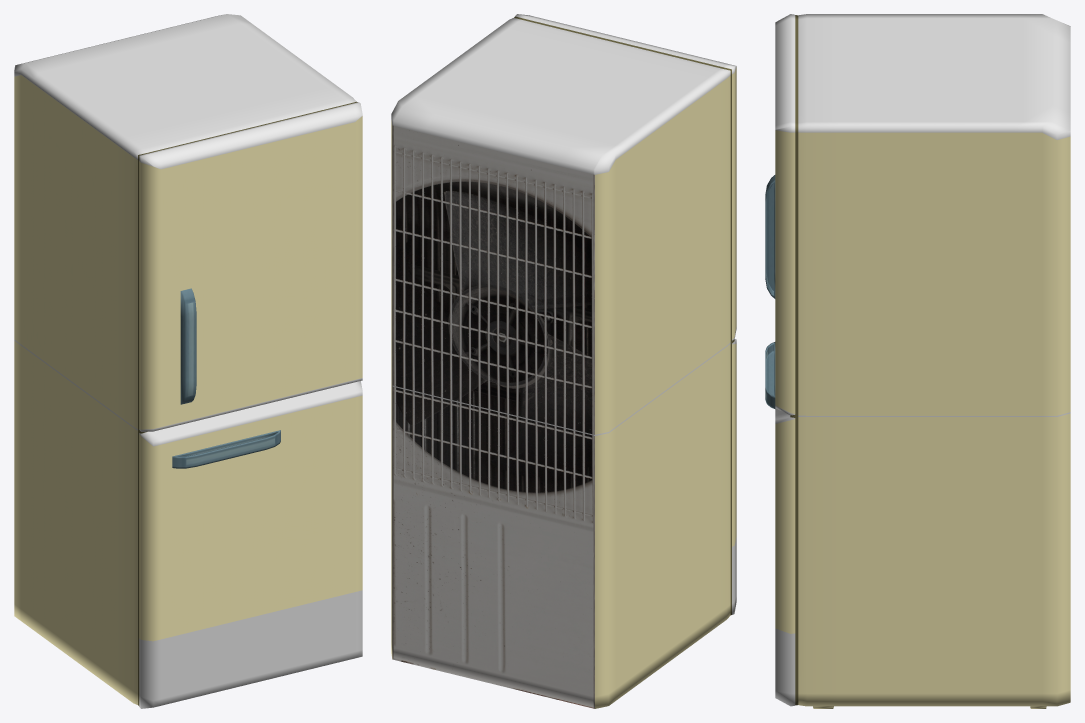
Rendered from refrigerator_big.glb.
The picture shows the model from 3 angles, left to right: view 1: azimuth 30°, elevation 25°; view 2: azimuth 150°, elevation 25°; view 3: azimuth 270°, elevation 25°; orthographic projection. The views are drawn at different scales.
Visible parts, largest first — view 1: RefrigeratorBig; view 2: RefrigeratorBig; view 3: RefrigeratorBig.
Boxes of the visible parts, x1,y1,x2,y2 form: RefrigeratorBig: (14,14,362,708); RefrigeratorBig: (391,14,736,708); RefrigeratorBig: (765,14,1070,708).
Size of the model in its own units: 0.9464 by 2.31 by 1.09.
5 materials, 2 textured.
